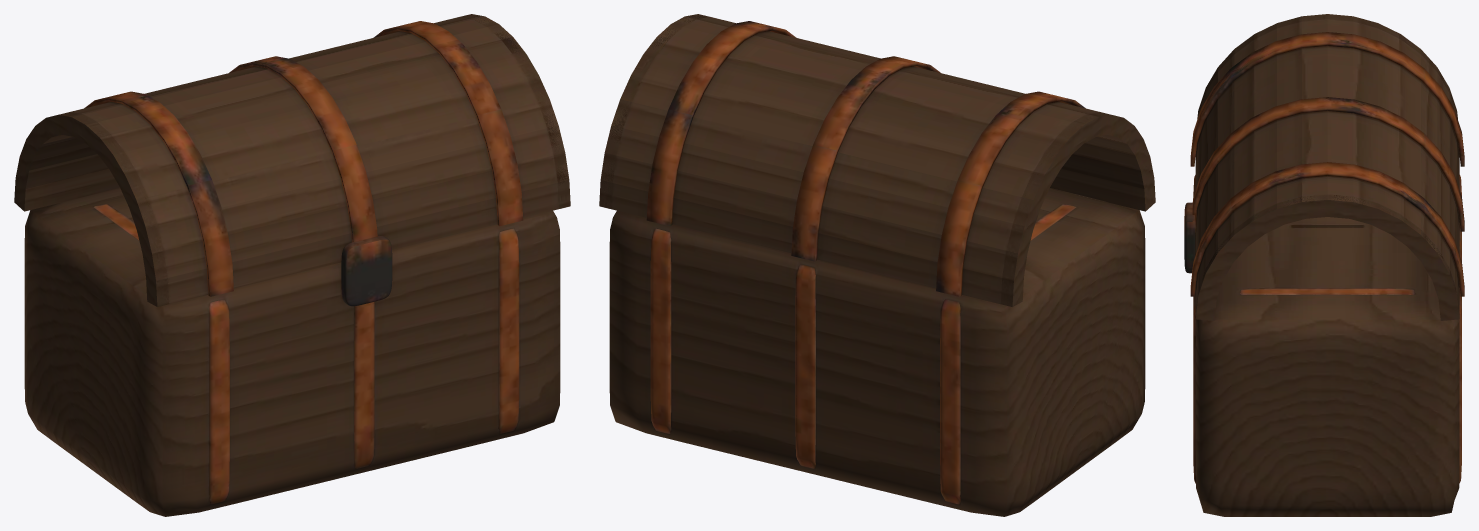
Rendered from iron-bound.glb.
The picture shows the model from 3 angles, left to right: view 1: azimuth 30°, elevation 25°; view 2: azimuth 150°, elevation 25°; view 3: azimuth 270°, elevation 25°; orthographic projection. The views are drawn at different scales.
Parts seen in each view (by area): view 1: chest_wood, iron; view 2: chest_wood, iron; view 3: chest_wood, iron.
Part boxes in pixels (<box>): chest_wood: <box>14,14,570,516</box>; iron: <box>84,21,523,504</box>; chest_wood: <box>599,14,1155,516</box>; iron: <box>646,21,1085,504</box>; chest_wood: <box>1195,14,1459,516</box>; iron: <box>1184,32,1464,483</box>.
Bounding box in the file's own units: 0.7 × 0.578 × 0.446.
Materials: 2 (2 with a texture image).
